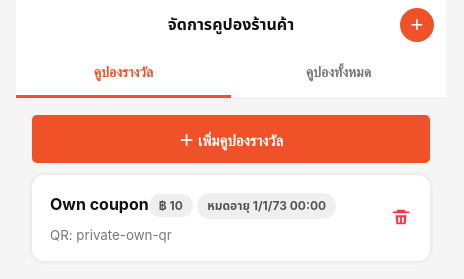
Test: Shop pages › switches coupon tabs without mixing a peer coupon into own-coupon management
The image size is (464, 279).
Check: the text "Own coupon" is shown, box left=50, top=194, right=149, bottom=214
Click the button "คูปองทั้งหมด" at (338, 74), box left=231, top=50, right=446, bottom=98
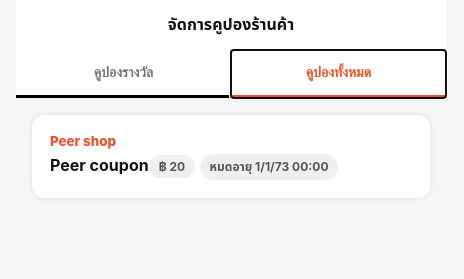
Check: the text "Peer coupon" is shown, box left=50, top=155, right=149, bottom=175
Check: the text "Own coupon" is gone
